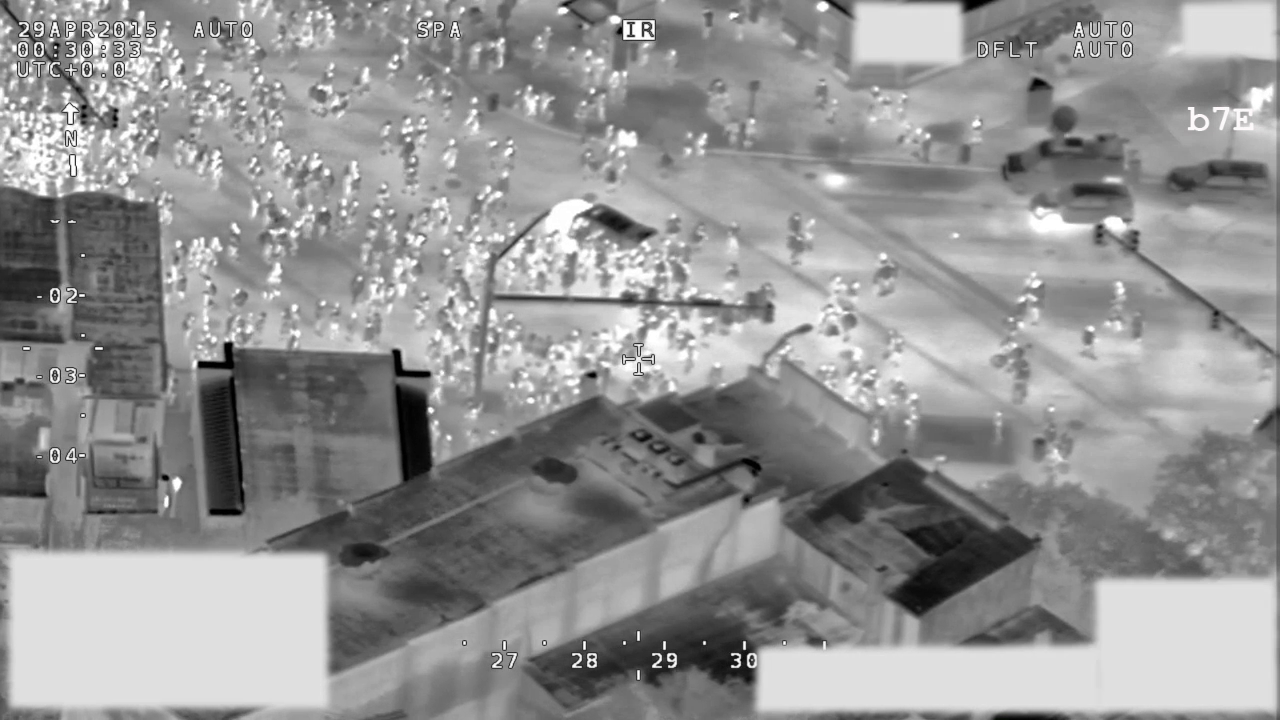vehicle: (1002, 104, 1149, 210), (541, 189, 664, 270), (1161, 154, 1280, 215), (1027, 178, 1140, 238)
